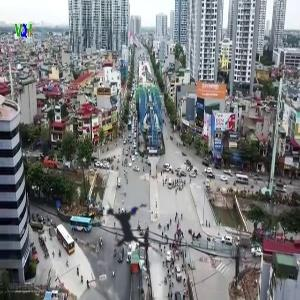drone: (72, 169, 192, 289)
